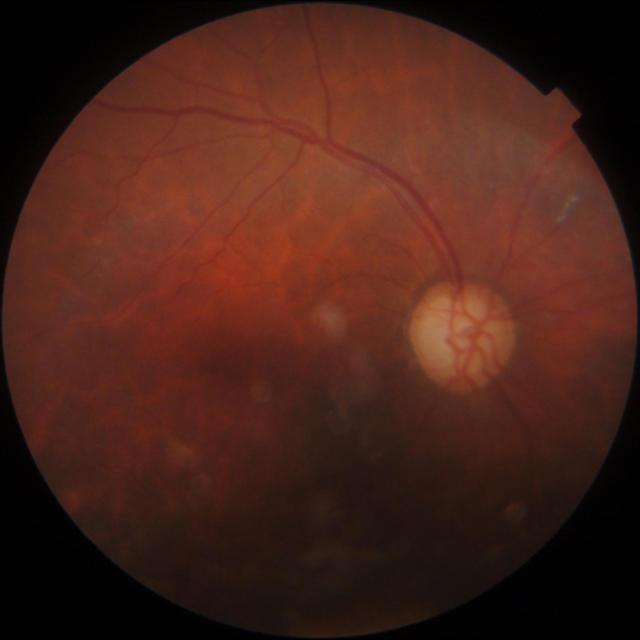OC: (422, 298, 492, 368)
OD: (407, 282, 515, 394)
